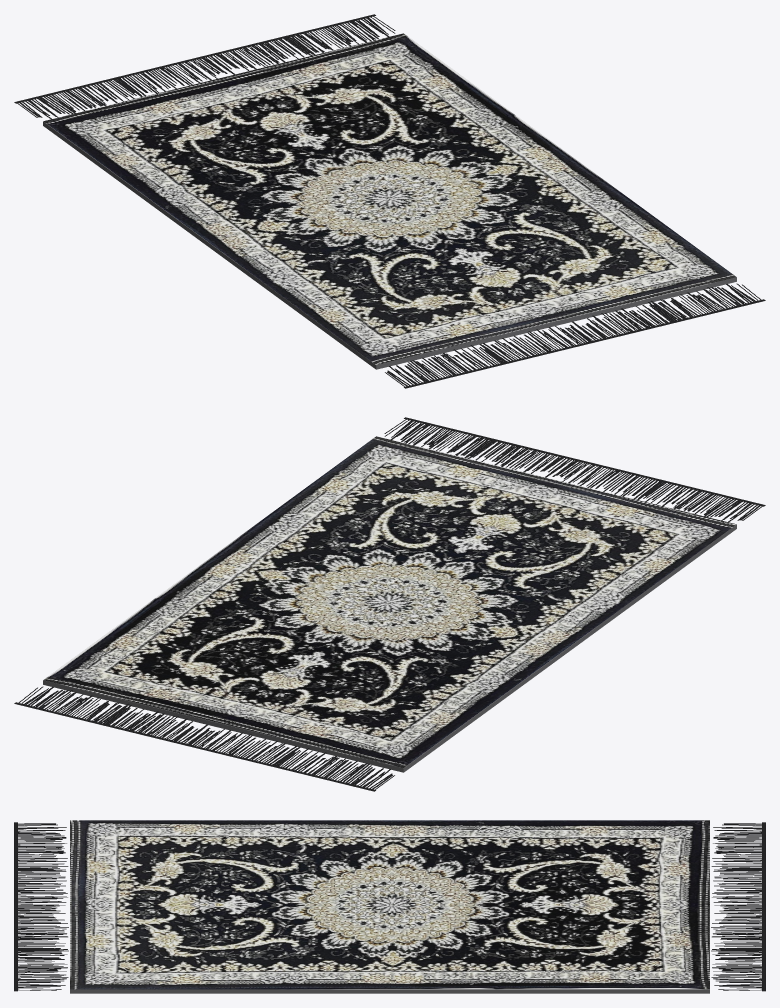
The picture shows the model from 3 angles, top to bottom: view 1: azimuth 30°, elevation 25°; view 2: azimuth 150°, elevation 25°; view 3: azimuth 270°, elevation 25°; orthographic projection. The views are drawn at different scales.
Parts seen in each view (by area): view 1: rug, fringeB, fringeA, side; view 2: rug, fringeA, fringeB, side; view 3: rug, fringeA, fringeB, side.
Part boxes in pixels (x1,y1,x2,y2): rug: [43, 33, 736, 364]; fringeB: [385, 283, 765, 388]; fringeA: [14, 14, 395, 119]; side: [43, 121, 736, 369]; rug: [43, 436, 736, 767]; fringeA: [14, 686, 394, 791]; fringeB: [384, 417, 765, 522]; side: [43, 524, 736, 772]; rug: [70, 820, 709, 989]; fringeA: [711, 822, 765, 991]; fringeB: [14, 822, 68, 991]; side: [70, 989, 709, 993].
Size of what is drawn, in the model's own units: 0.5 by 0.00614 by 0.94.
2 materials, 2 textured.
